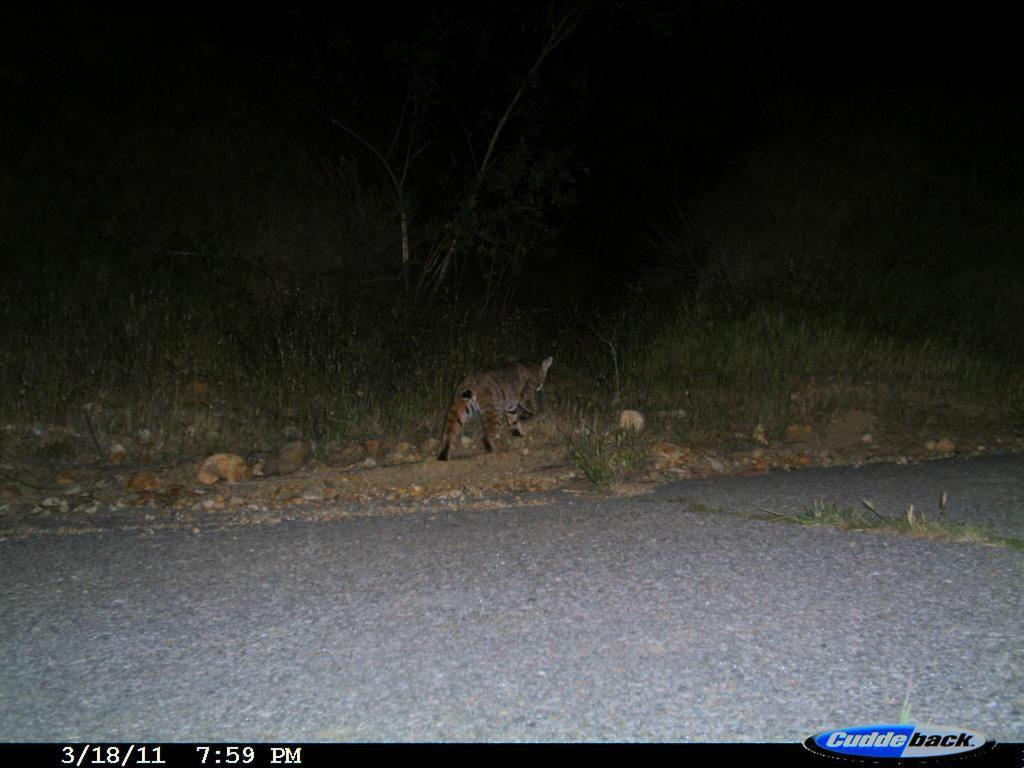bobcat: (436, 322, 561, 457)
